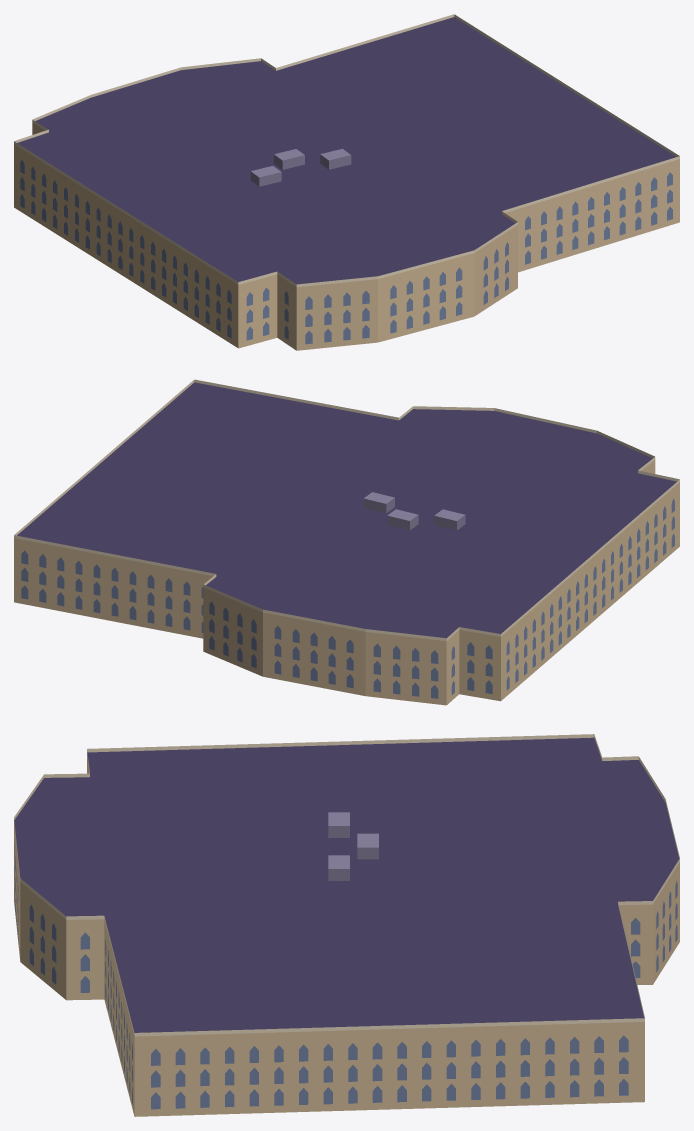
Rendered from b-115-thompson-arena-day.glb.
3 renders of one model, top to bottom at view 1: azimuth 30°, elevation 25°; view 2: azimuth 150°, elevation 25°; view 3: azimuth 270°, elevation 25°, orthographic. The views are drawn at different scales.
Parts seen in each view (by area): view 1: campus/b-115-thompson-arena-day-0; view 2: campus/b-115-thompson-arena-day-0; view 3: campus/b-115-thompson-arena-day-0.
Part boxes in pixels (left/top/right/bottom): campus/b-115-thompson-arena-day-0: left=14, top=14, right=679, bottom=350; campus/b-115-thompson-arena-day-0: left=14, top=379, right=679, bottom=705; campus/b-115-thompson-arena-day-0: left=14, top=734, right=679, bottom=1116.
Bounding box in the file's own units: 97.38 × 14 × 91.72.
